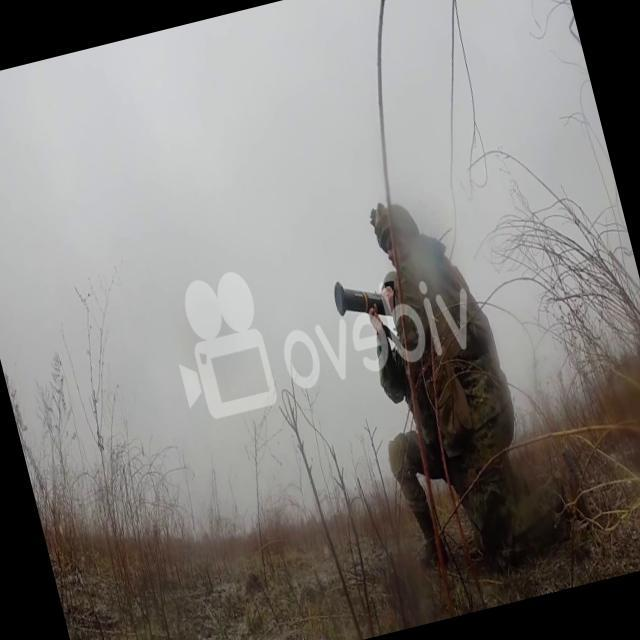rocket: (330, 271, 400, 341)
